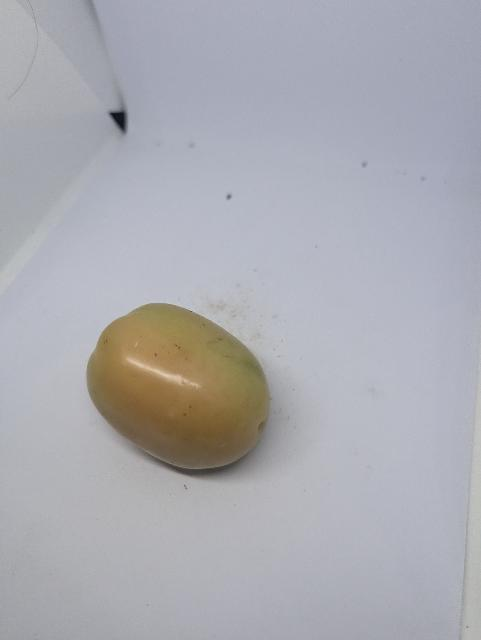turning: (76, 298, 293, 479)
